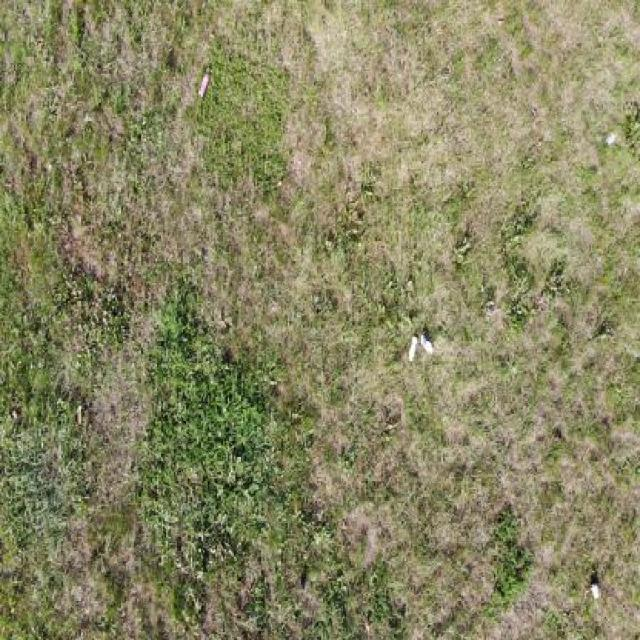Garbage: (198, 72, 210, 97), (589, 580, 601, 601), (419, 335, 433, 353), (408, 336, 418, 360), (605, 132, 616, 147)
